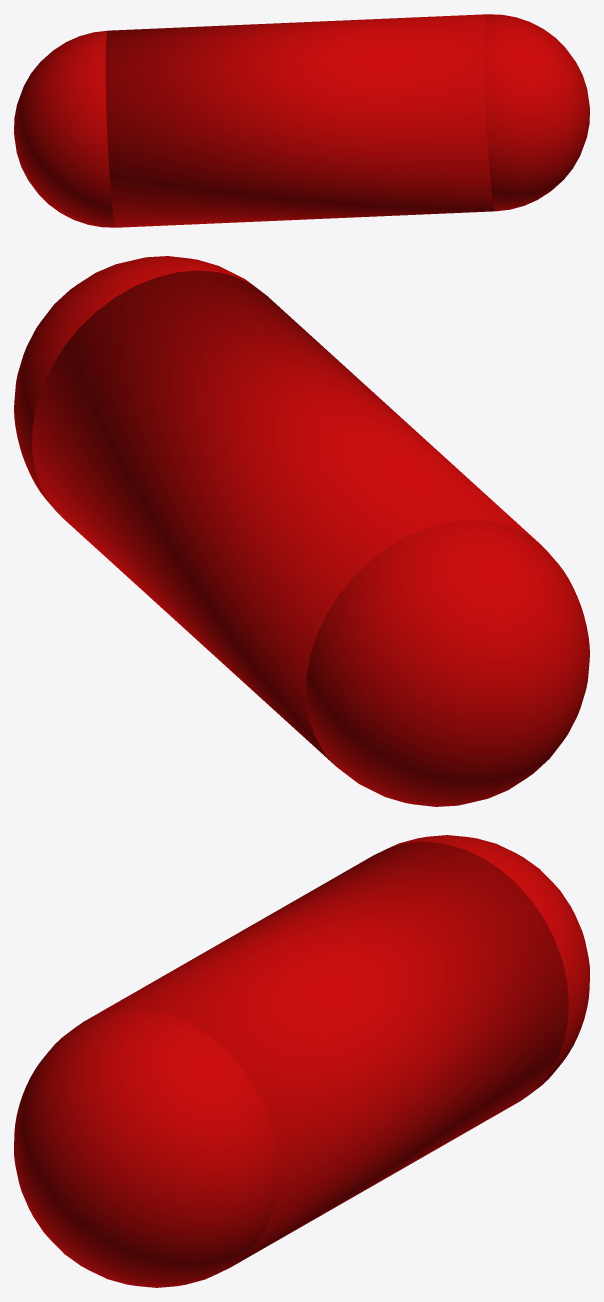
3 renders of one model, top to bottom at view 1: azimuth 30°, elevation 25°; view 2: azimuth 150°, elevation 25°; view 3: azimuth 270°, elevation 25°, orthographic. The views are drawn at different scales.
Visible parts, largest first — view 1: Cylinder, Sphere.001, Sphere; view 2: Cylinder, Sphere, Sphere.001; view 3: Cylinder, Sphere.001, Sphere.
Part boxes in pixels (x1,y1,x2,y2): Cylinder: (105,14,495,227); Sphere.001: (484,14,589,211); Sphere: (14,30,116,227); Cylinder: (32,270,539,766); Sphere: (306,519,589,806); Sphere.001: (14,256,254,514); Cylinder: (84,841,568,1266); Sphere.001: (14,1008,278,1287); Sphere: (391,835,589,1098).
Bounding box in the file's own units: 1.59 × 0.6748 × 1.22.
